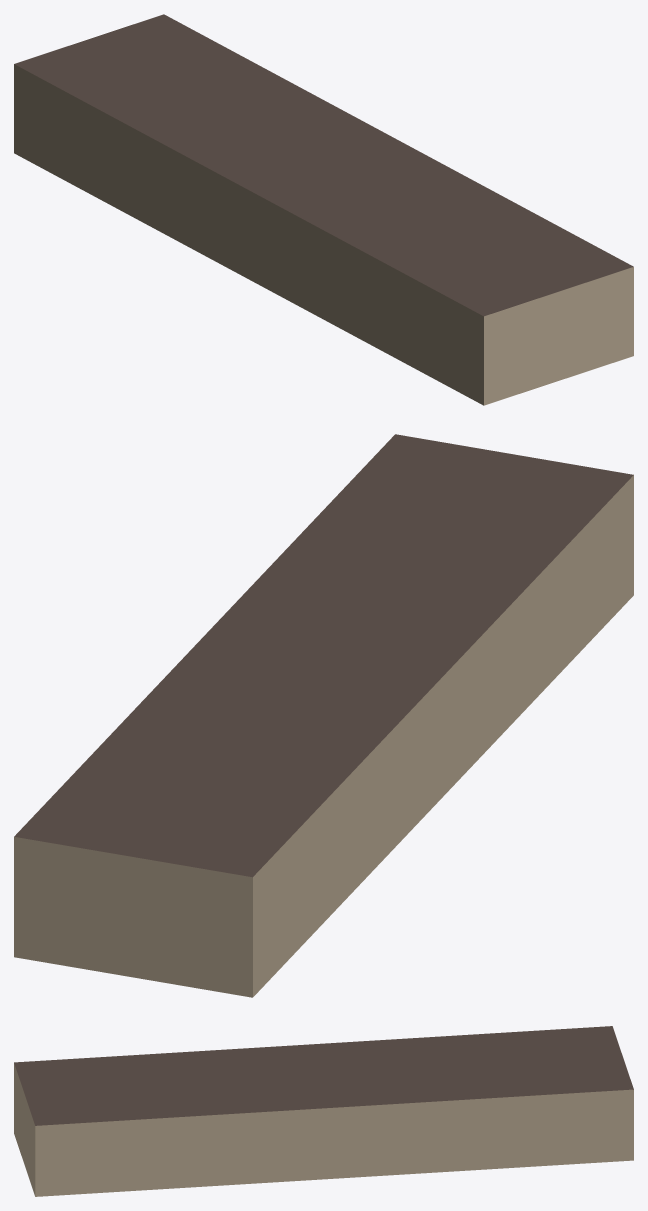
The picture shows the model from 3 angles, top to bottom: view 1: azimuth 30°, elevation 25°; view 2: azimuth 150°, elevation 25°; view 3: azimuth 270°, elevation 25°; orthographic projection. The views are drawn at different scales.
Visible parts, largest first — view 1: HP-w1376988703; view 2: HP-w1376988703; view 3: HP-w1376988703.
Part boxes in pixels (<box>): HP-w1376988703: <box>14,14,633,405</box>; HP-w1376988703: <box>14,434,633,997</box>; HP-w1376988703: <box>14,1026,633,1196</box>.
Bounding box in the file's own units: 18.09 × 6 × 47.46.
